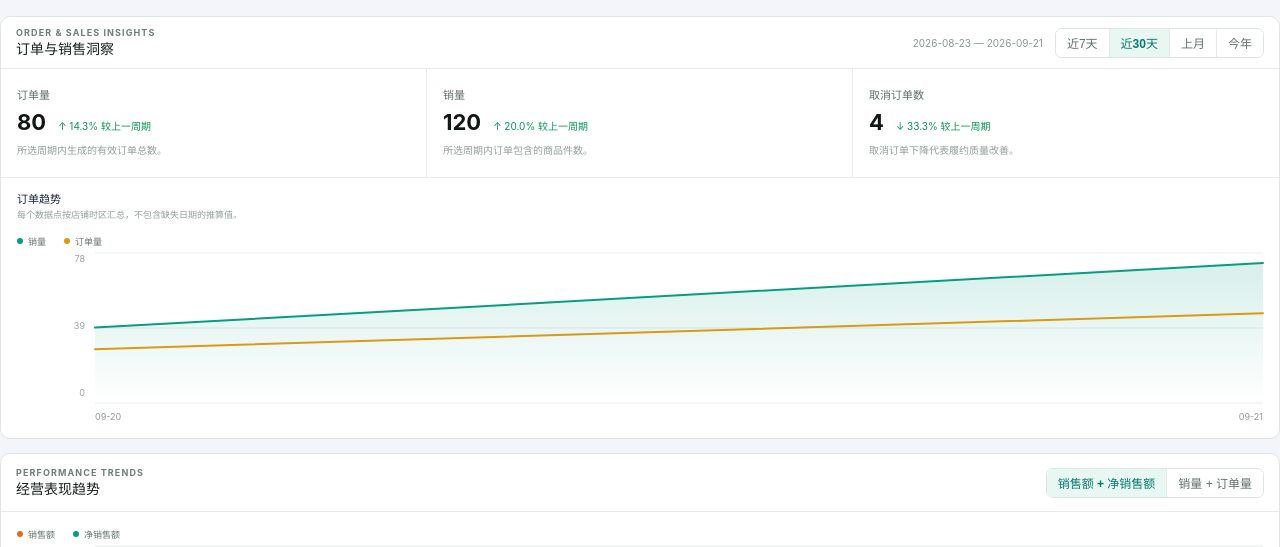
Scenario: DashboardTrendInsights › renders truthful order metrics and switches performance trend mode
The width and height of the screenshot is (1280, 547).
expect the heading "订单与销售洞察" is shown: met, box [16,40,114,56]
expect the heading "经营表现趋势" is shown: met, box [16,480,100,496]
Click the button "销量 + 订单量": [1215, 482] box [1167,468,1263,496]
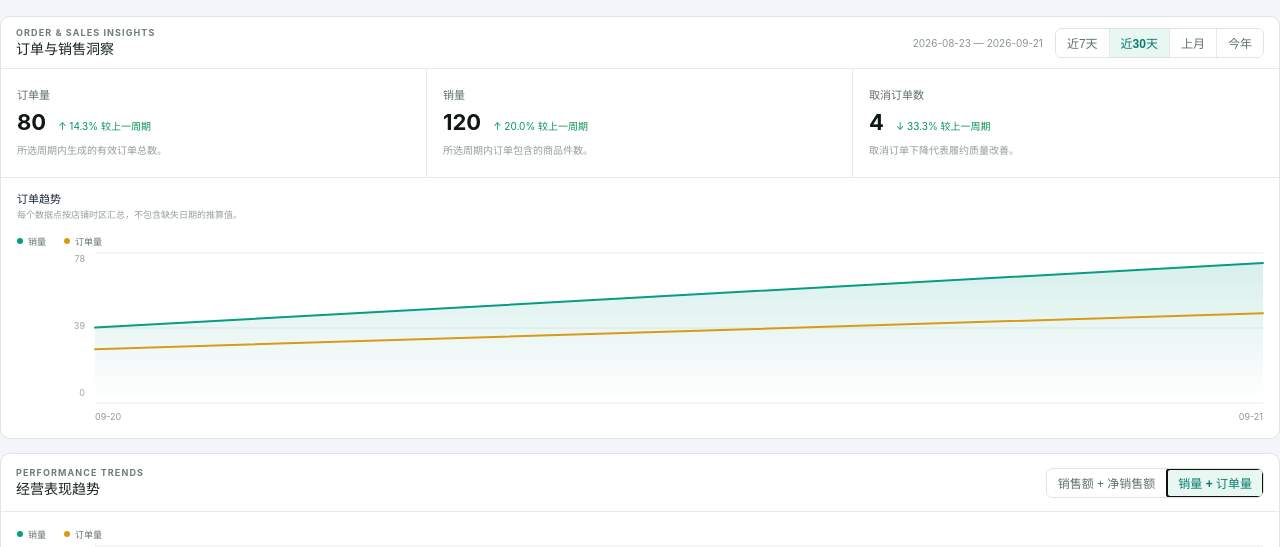
expect the button "销量 + 订单量" has class "active": met, box [1167,468,1263,496]
